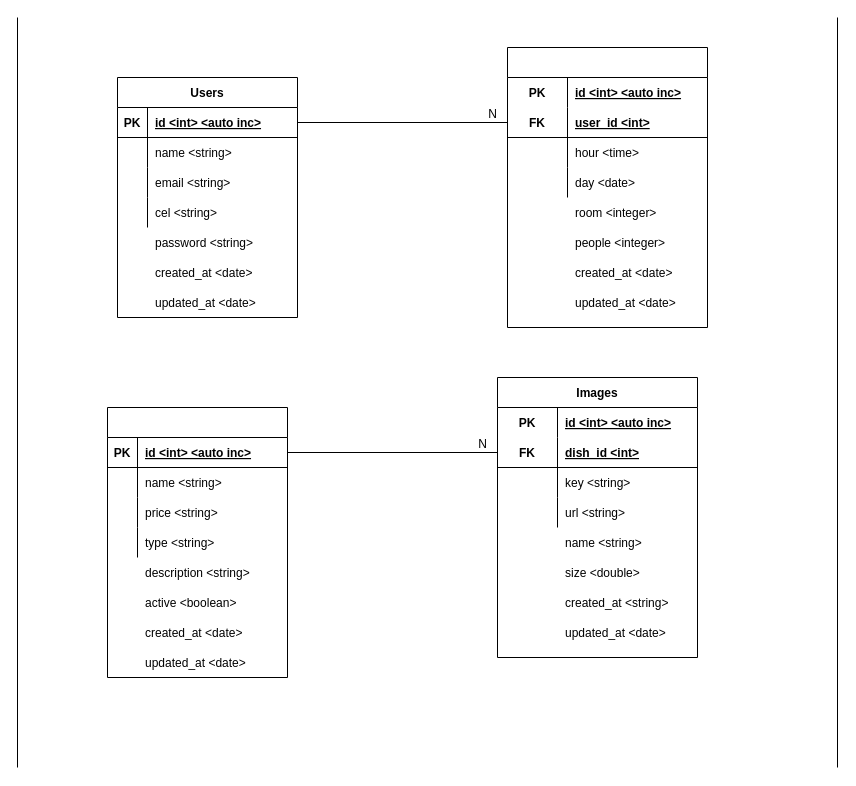
The diagram is 856 pixels wide and 786 high, and some of its shapes have lost their labels. The shapes that lost their labels are listed below. From the top down, each one's box as (x1, y1, x2, y2) in pixels, then its label:
(506, 46, 708, 328): Reserves
(106, 406, 288, 678): Dishes
